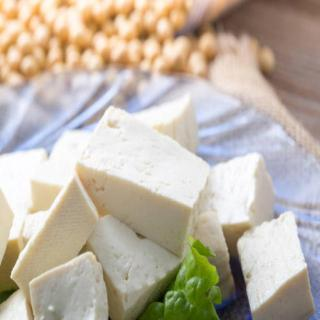Tahu: (1, 86, 317, 320)
